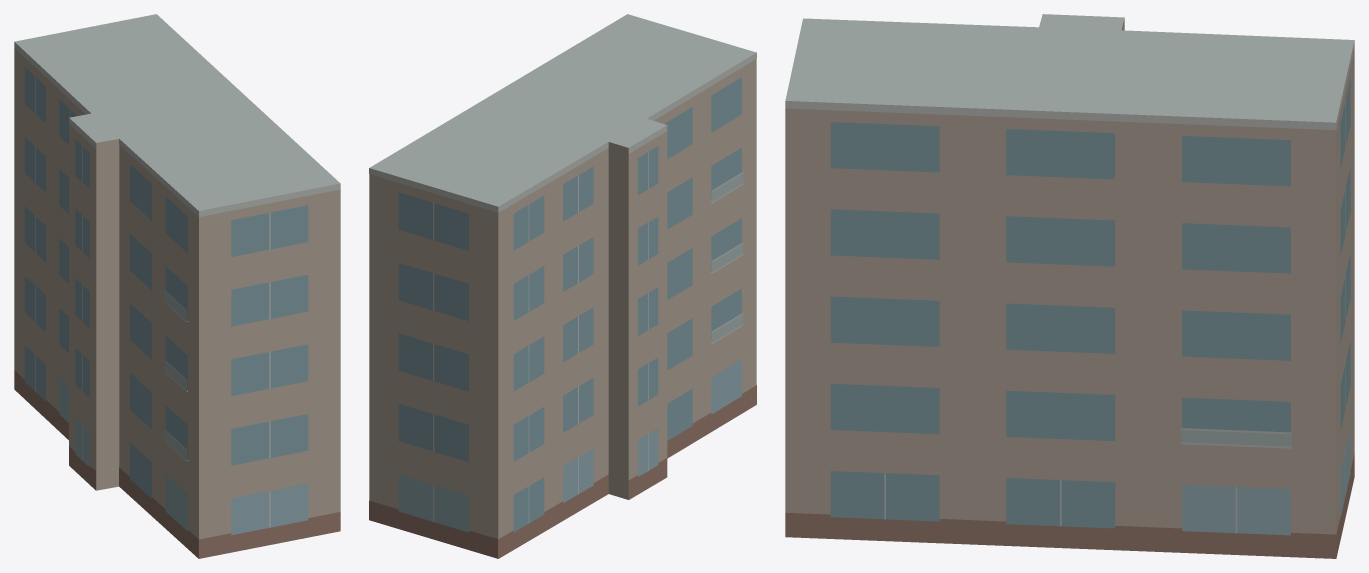
File: survey-upis-32755093.glb
The picture shows the model from 3 angles, left to right: view 1: azimuth 30°, elevation 25°; view 2: azimuth 150°, elevation 25°; view 3: azimuth 270°, elevation 25°; orthographic projection. The views are drawn at different scales.
Visible parts, largest first — view 1: survey-upis-32755093.tmp; view 2: survey-upis-32755093.tmp; view 3: survey-upis-32755093.tmp.
Boxes of the visible parts, x1,y1,x2,y2 form: survey-upis-32755093.tmp: (14,14,340,558); survey-upis-32755093.tmp: (369,14,756,558); survey-upis-32755093.tmp: (785,14,1354,558).
Size of the model in its own units: 7.51 by 14.05 by 16.63.
